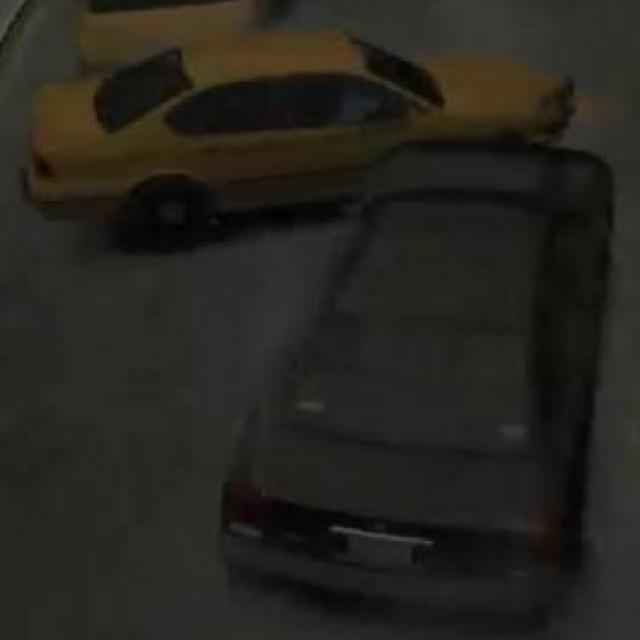accident: (46, 11, 624, 634)
